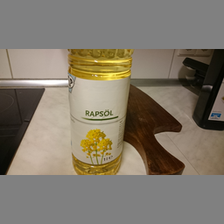oil: (67, 49, 133, 175)
